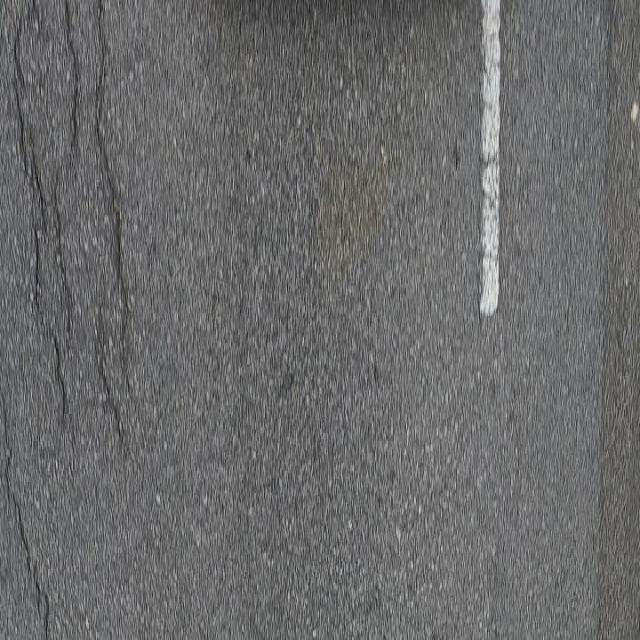cracks: (0, 0, 140, 640)
